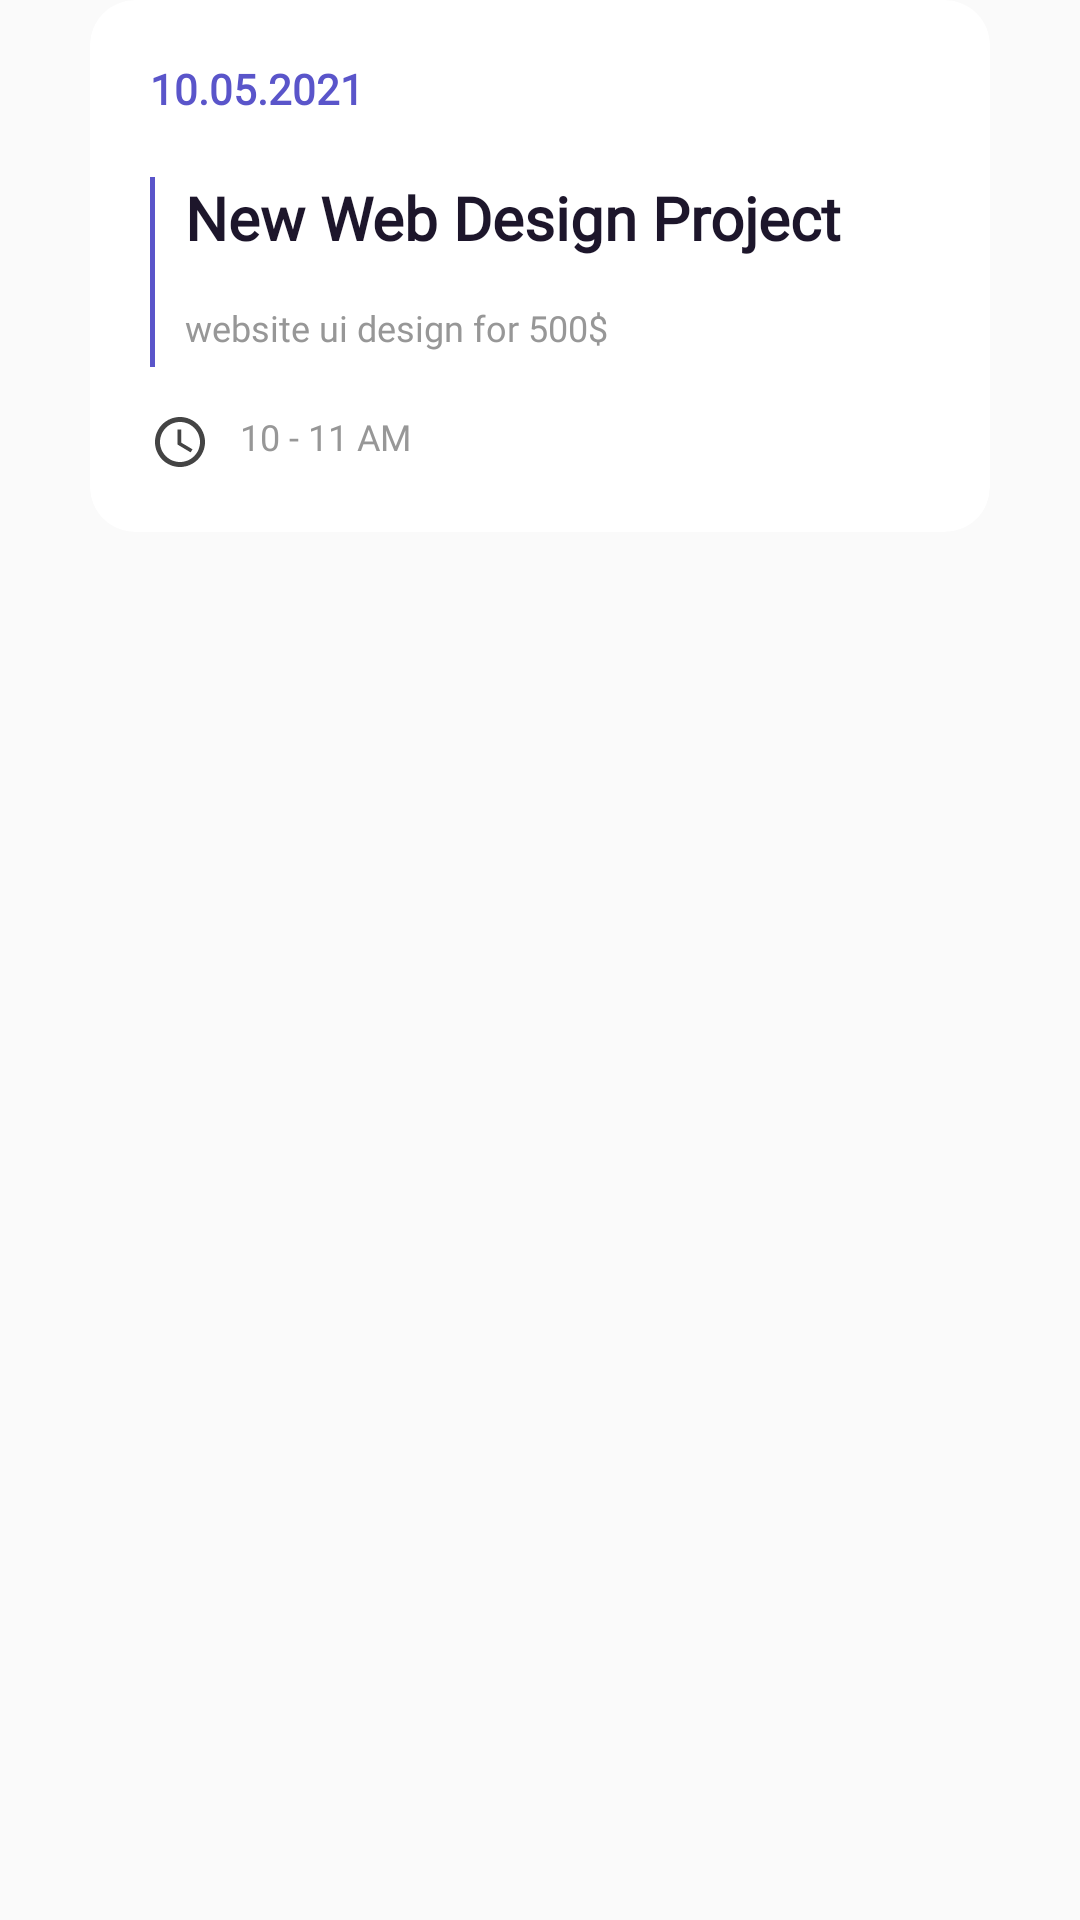

Icon bounding boxes for this 1080×1920 phone screenshot, format (left=x1, top=y1, right=x2, bottom=y2):
time: (left=155, top=417, right=205, bottom=467)
